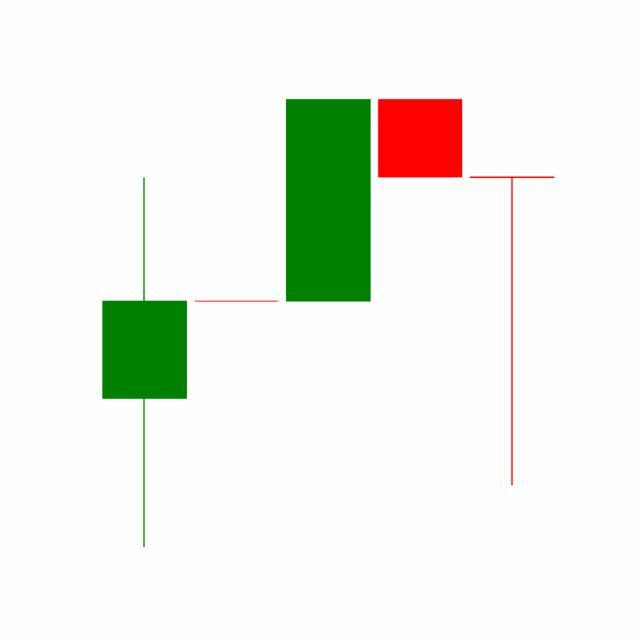Hammer: (466, 174, 559, 490)
